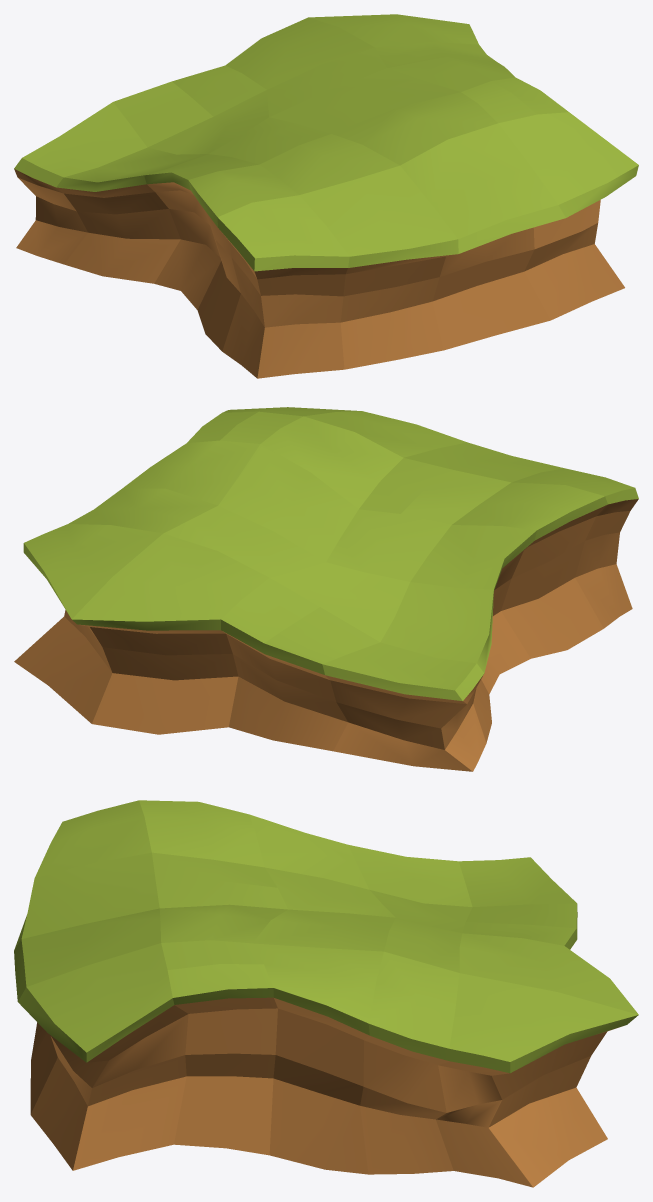
The model's file is drn_textured3.fbx.
3 renders of one model, top to bottom at view 1: azimuth 30°, elevation 25°; view 2: azimuth 150°, elevation 25°; view 3: azimuth 270°, elevation 25°, orthographic. The views are drawn at different scales.
Visible parts, largest first — view 1: JaynamLowPolyTerrain_drny_rozdelane:pCube10; view 2: JaynamLowPolyTerrain_drny_rozdelane:pCube10; view 3: JaynamLowPolyTerrain_drny_rozdelane:pCube10.
Part boxes in pixels (<box>): JaynamLowPolyTerrain_drny_rozdelane:pCube10: <box>14,14,638,378</box>; JaynamLowPolyTerrain_drny_rozdelane:pCube10: <box>14,407,638,771</box>; JaynamLowPolyTerrain_drny_rozdelane:pCube10: <box>14,800,638,1187</box>.
Size of the model in its own units: 1.87 by 0.6849 by 1.98.
